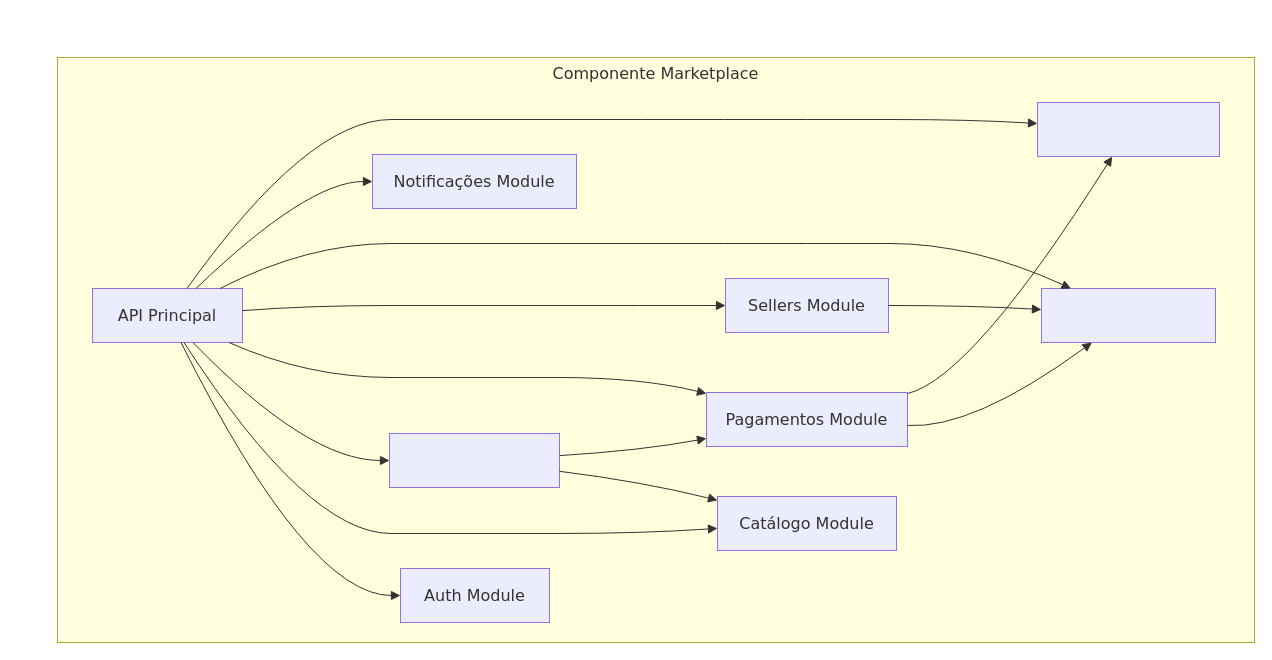
The diagram is 1272 pixels wide and 660 high, and some of its shapes have lost their labels. The centre of each missing label's shape, as x and y in pixels:
Auditoria Module: the point at 1128,129
Carteira Module: the point at 1128,315
Pedidos Module: the point at 474,460
